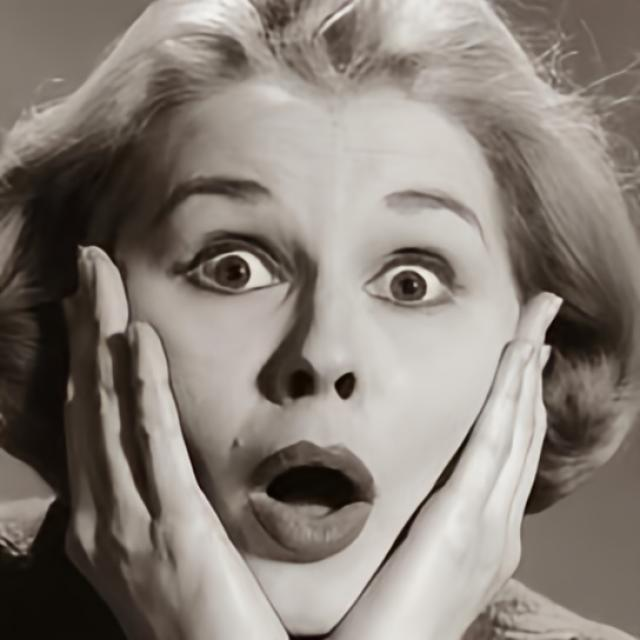surprise: (106, 76, 522, 637)
